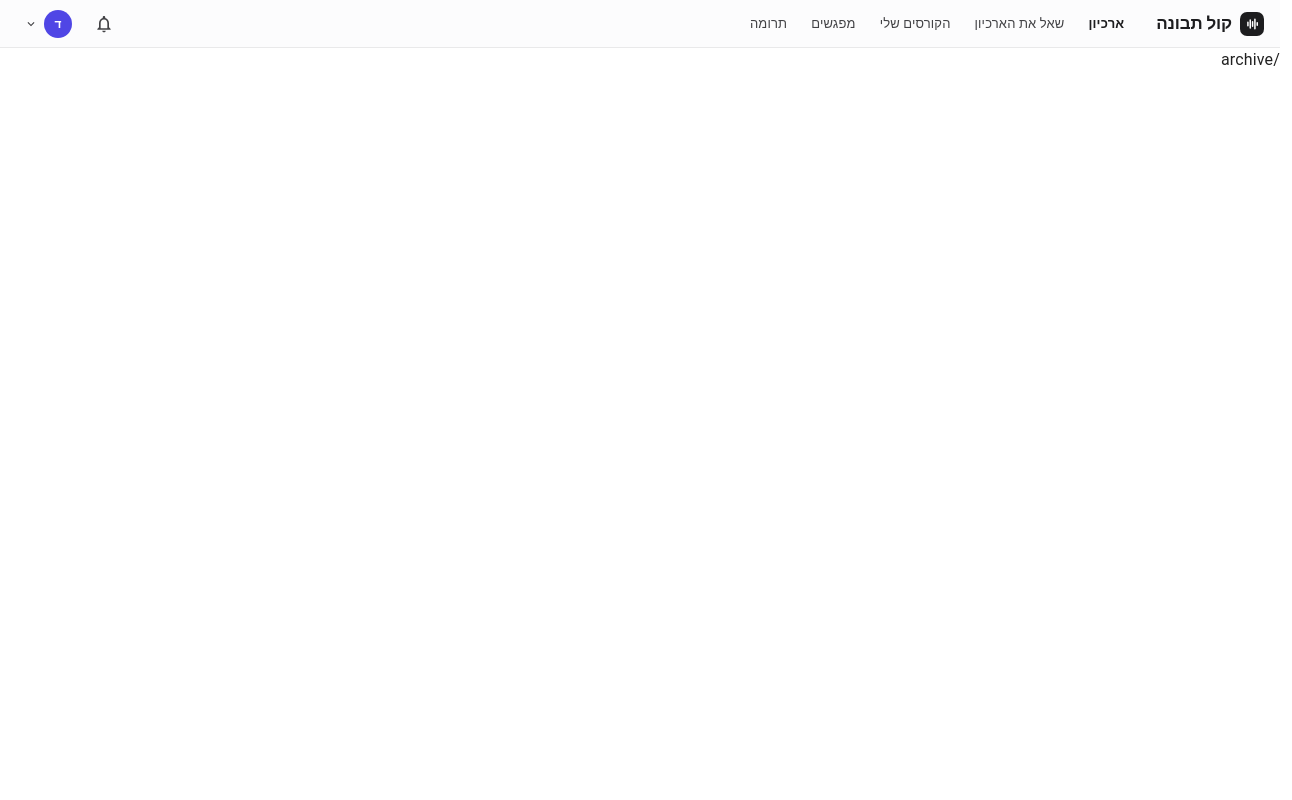
what each role is offered in the avatar menu › a lecturer: course management and upload, and no admin pages
The image size is (1292, 800).
Click the button named "תפריט החשבון".
click(46, 24)  # box x1=16 y1=6 x2=76 y2=42
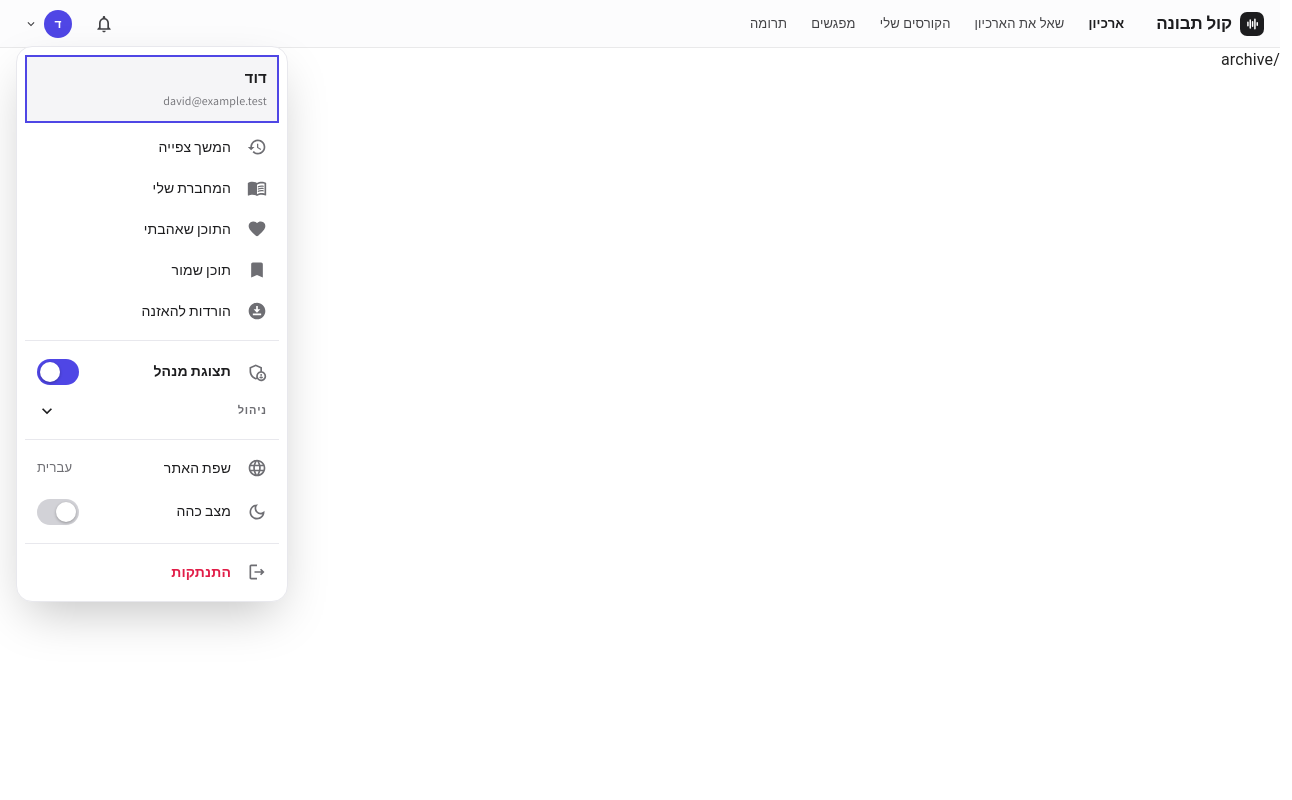
Click the menu item "ניהול".
click(252, 410)  # box x1=37 y1=400 x2=267 y2=420
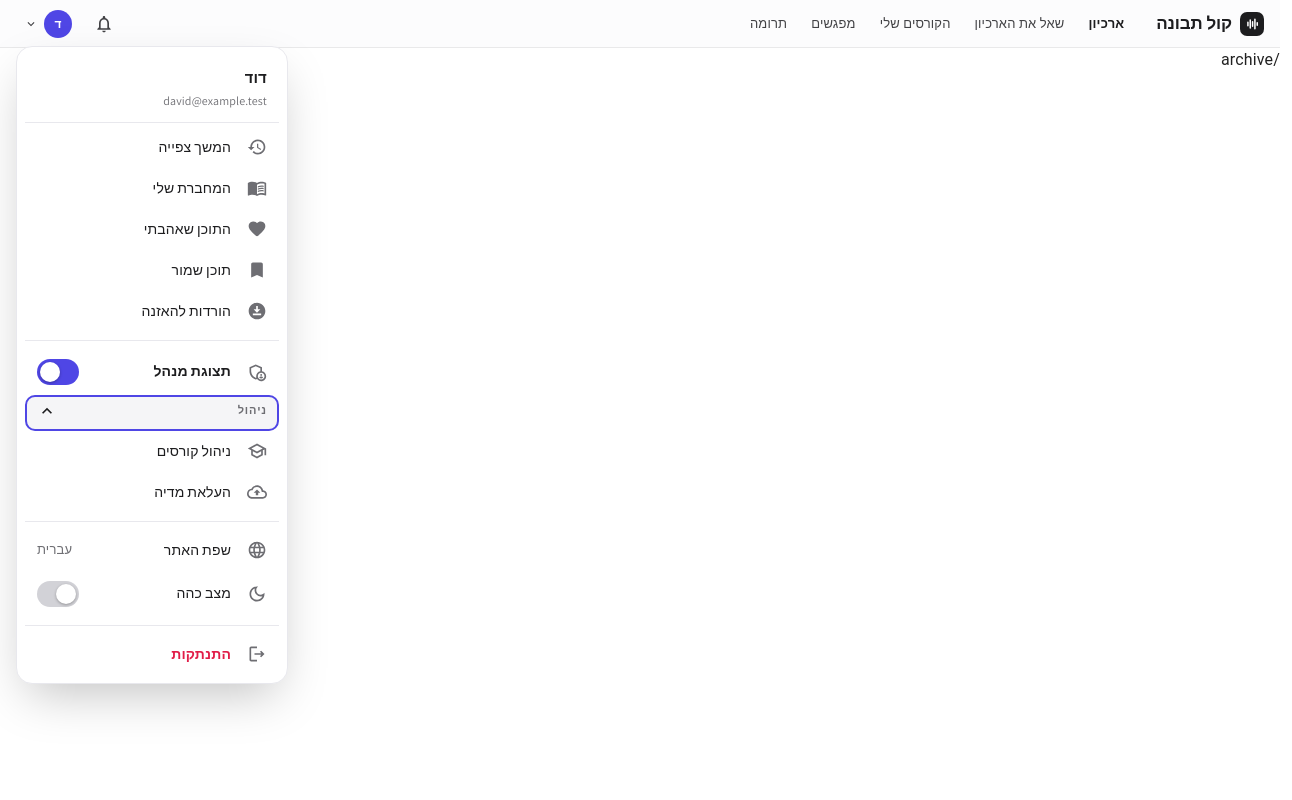
Expected: the menu item "העלאת מדיה" is shown, x1=154 y1=482 x2=267 y2=502
